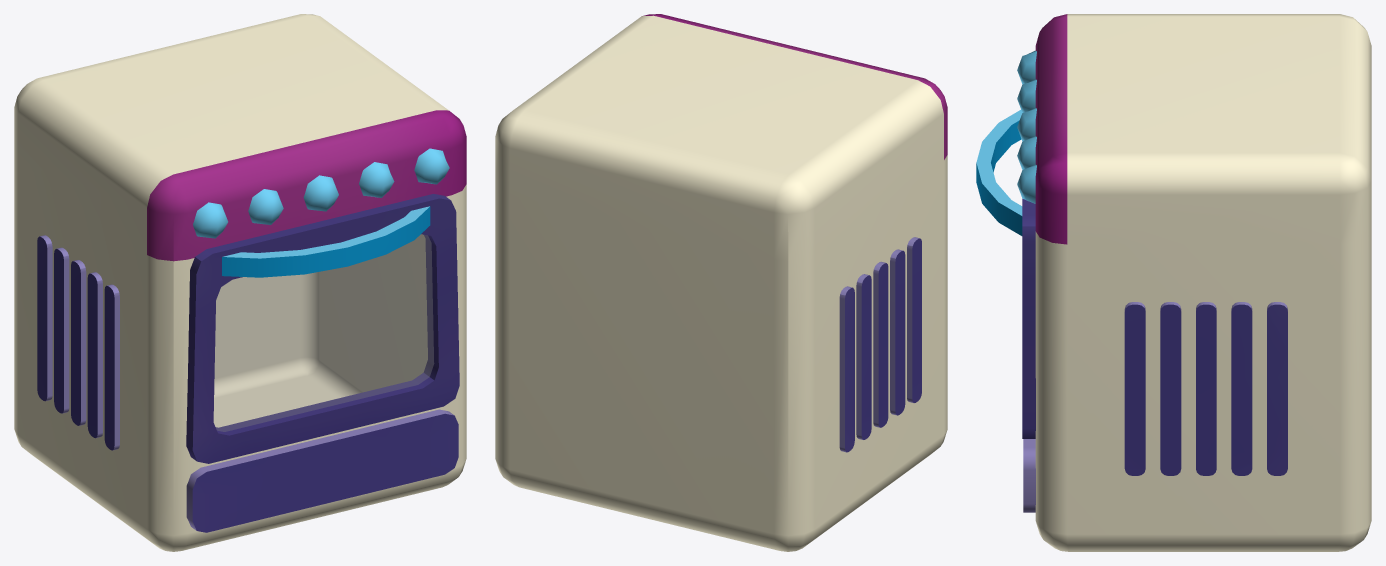
File: Lo_nuong_banh_2.fbx
3 renders of one model, left to right at view 1: azimuth 30°, elevation 25°; view 2: azimuth 150°, elevation 25°; view 3: azimuth 270°, elevation 25°, orthographic. The views are drawn at different scales.
Visible parts, largest first — view 1: Lo_nuong_banh_2; view 2: Lo_nuong_banh_2; view 3: Lo_nuong_banh_2.
Part boxes in pixels (<box>): Lo_nuong_banh_2: <box>14,14,466,551</box>; Lo_nuong_banh_2: <box>495,14,947,551</box>; Lo_nuong_banh_2: <box>976,14,1371,551</box>.
Bounding box in the file's own units: 141 × 155 × 140.
